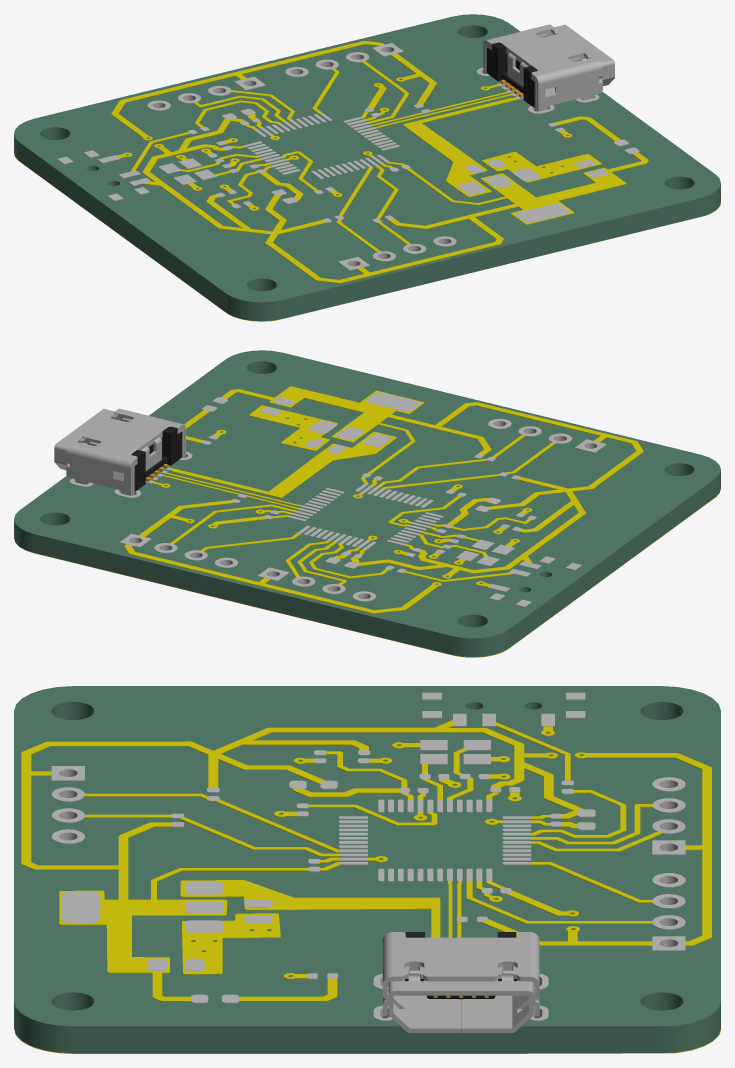
File: bluepill-test-with-models.glb
The picture shows the model from 3 angles, top to bottom: view 1: azimuth 30°, elevation 25°; view 2: azimuth 150°, elevation 25°; view 3: azimuth 270°, elevation 25°; orthographic projection. The views are drawn at different scales.
Visible parts, largest first — view 1: =>[0:1:1:6], =>[0:1:1:3], =>[0:1:1:4], 629105150521_Shielding2, 629105150521_Shielding, 629105150521_Housing; view 2: =>[0:1:1:6], =>[0:1:1:3], =>[0:1:1:4], 629105150521_Shielding2, 629105150521_Shielding, 629105150521_Housing; view 3: =>[0:1:1:6], =>[0:1:1:3], =>[0:1:1:4], 629105150521_Shielding, 629105150521_Shielding2.
Boxes of the visible parts, <box> form: =>[0:1:1:6]: <box>14,14,720,321</box>; =>[0:1:1:3]: <box>14,41,720,321</box>; =>[0:1:1:4]: <box>57,43,639,270</box>; 629105150521_Shielding2: <box>483,24,602,111</box>; 629105150521_Shielding: <box>485,24,614,111</box>; 629105150521_Housing: <box>487,42,581,107</box>; =>[0:1:1:6]: <box>14,350,720,657</box>; =>[0:1:1:3]: <box>14,386,720,657</box>; =>[0:1:1:4]: <box>69,392,606,607</box>; 629105150521_Shielding2: <box>66,408,185,495</box>; 629105150521_Shielding: <box>54,409,183,495</box>; 629105150521_Housing: <box>87,426,182,491</box>; =>[0:1:1:6]: <box>14,686,720,1053</box>; =>[0:1:1:3]: <box>14,720,720,1053</box>; =>[0:1:1:4]: <box>51,692,685,1020</box>; 629105150521_Shielding: <box>388,966,533,1032</box>; 629105150521_Shielding2: <box>382,932,539,1018</box>.
Bounding box in the file's own units: 0.0419 × 0.00452 × 0.036.
